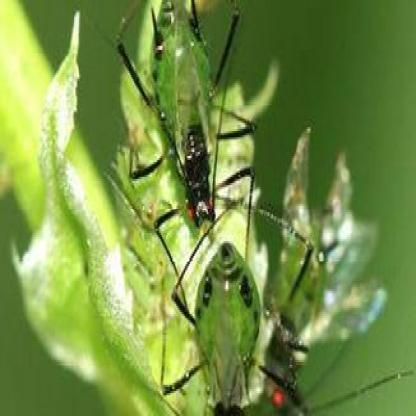aphid: (107, 2, 255, 222), (159, 222, 295, 416)
